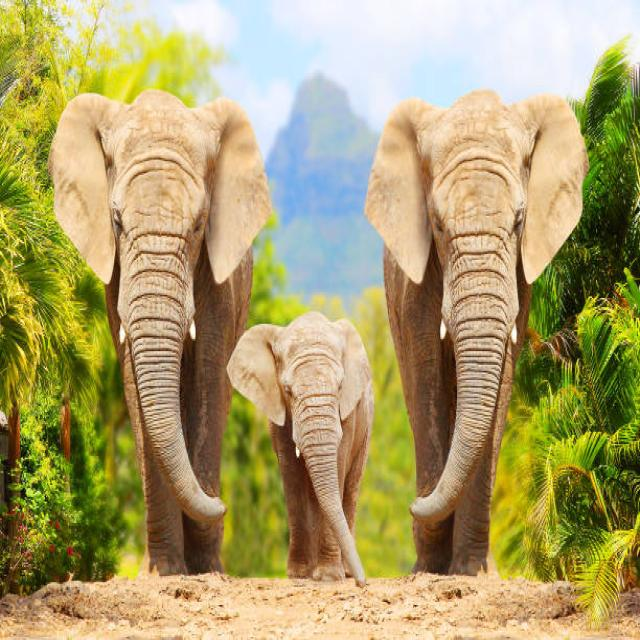Elephant: (360, 77, 605, 594), (50, 76, 282, 598), (227, 288, 381, 596)
